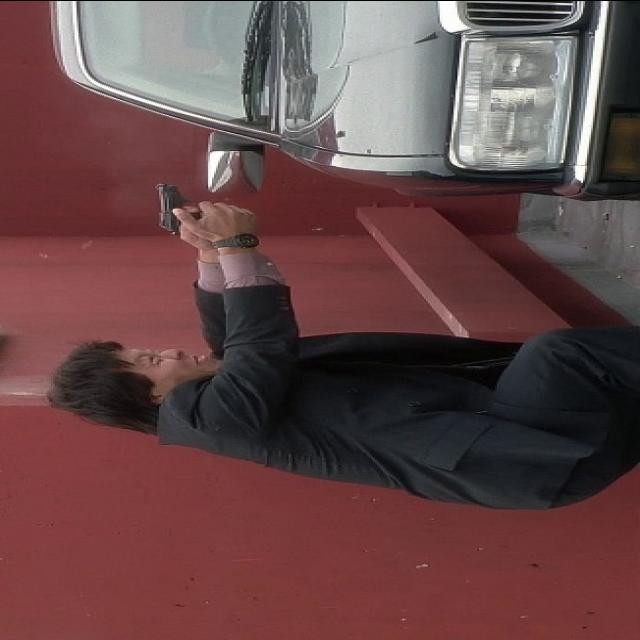weapons: (120, 168, 278, 244)
